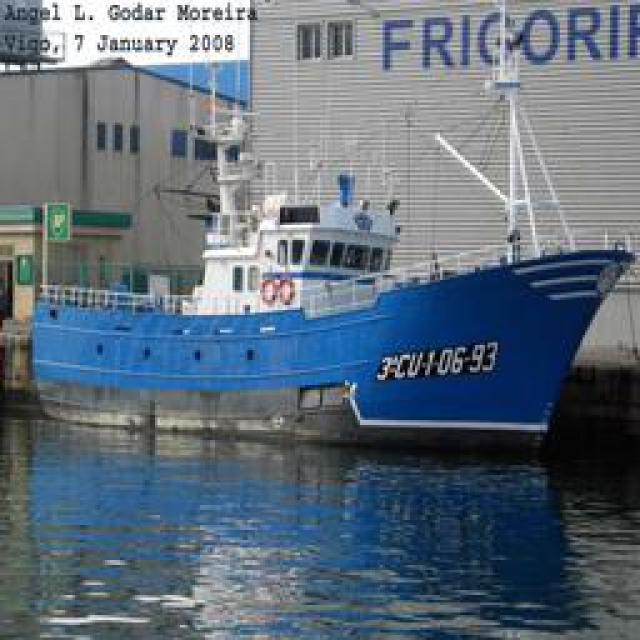Ship: (31, 89, 631, 424)
